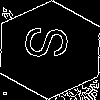S: (25, 25, 78, 60)
